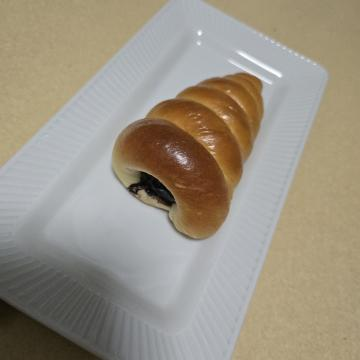cream horn: (47, 78, 264, 278)
